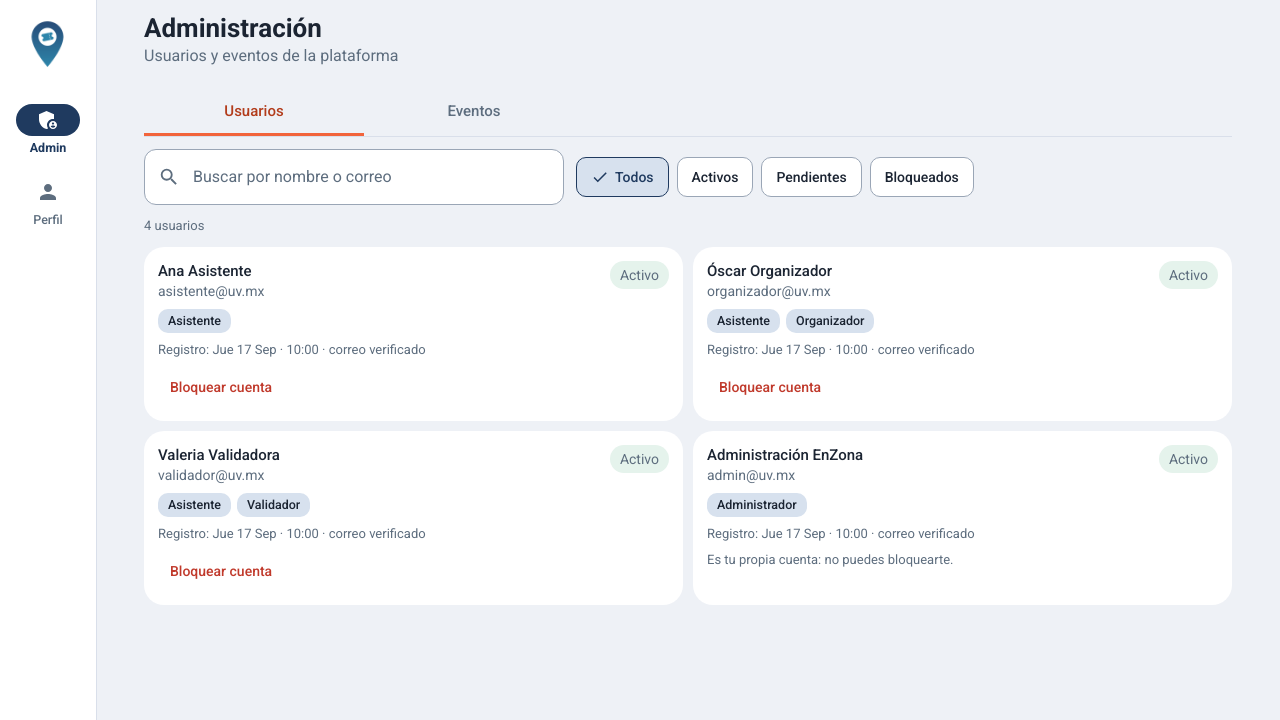
Scenario: administración (RF-18) › bloquea y desbloquea una cuenta, pero no la propia
The image size is (1280, 720).
Click the button "Bloquear cuenta" below "asistente@uv.mx".
click(221, 387)  # box [158,367,284,407]
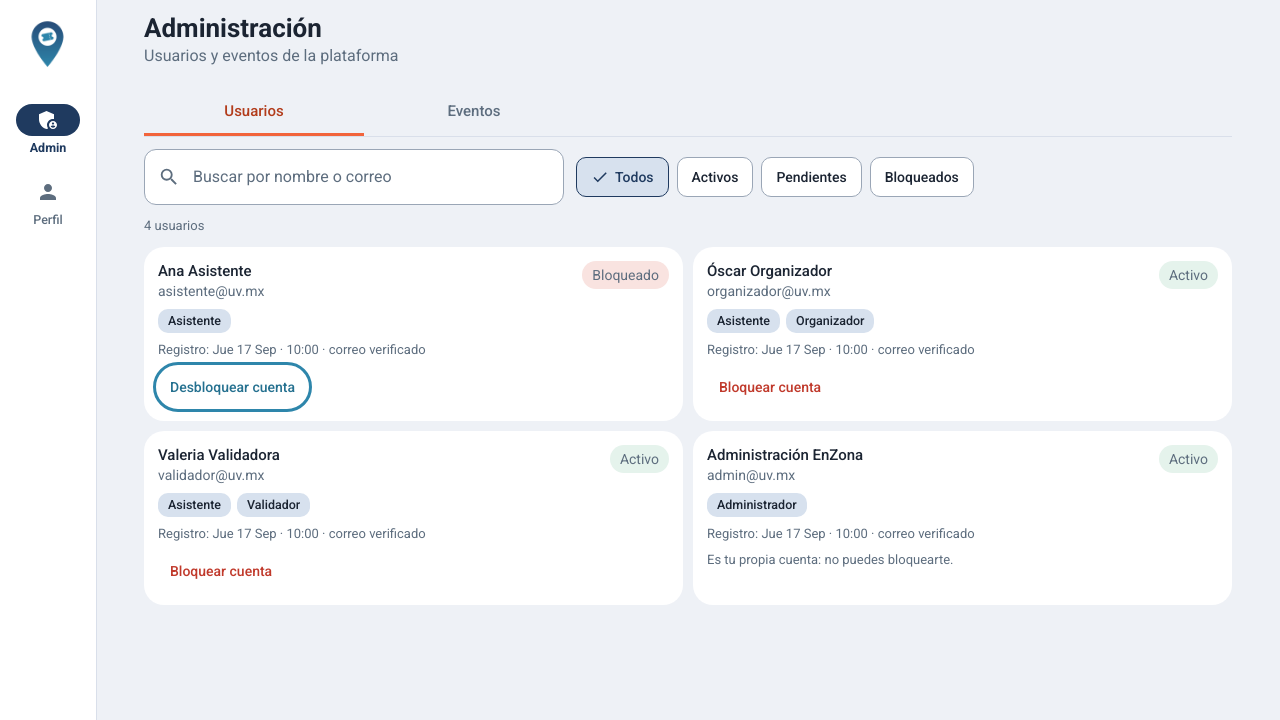
Expected: the button "Desbloquear cuenta" is shown, [158,367,307,407]
